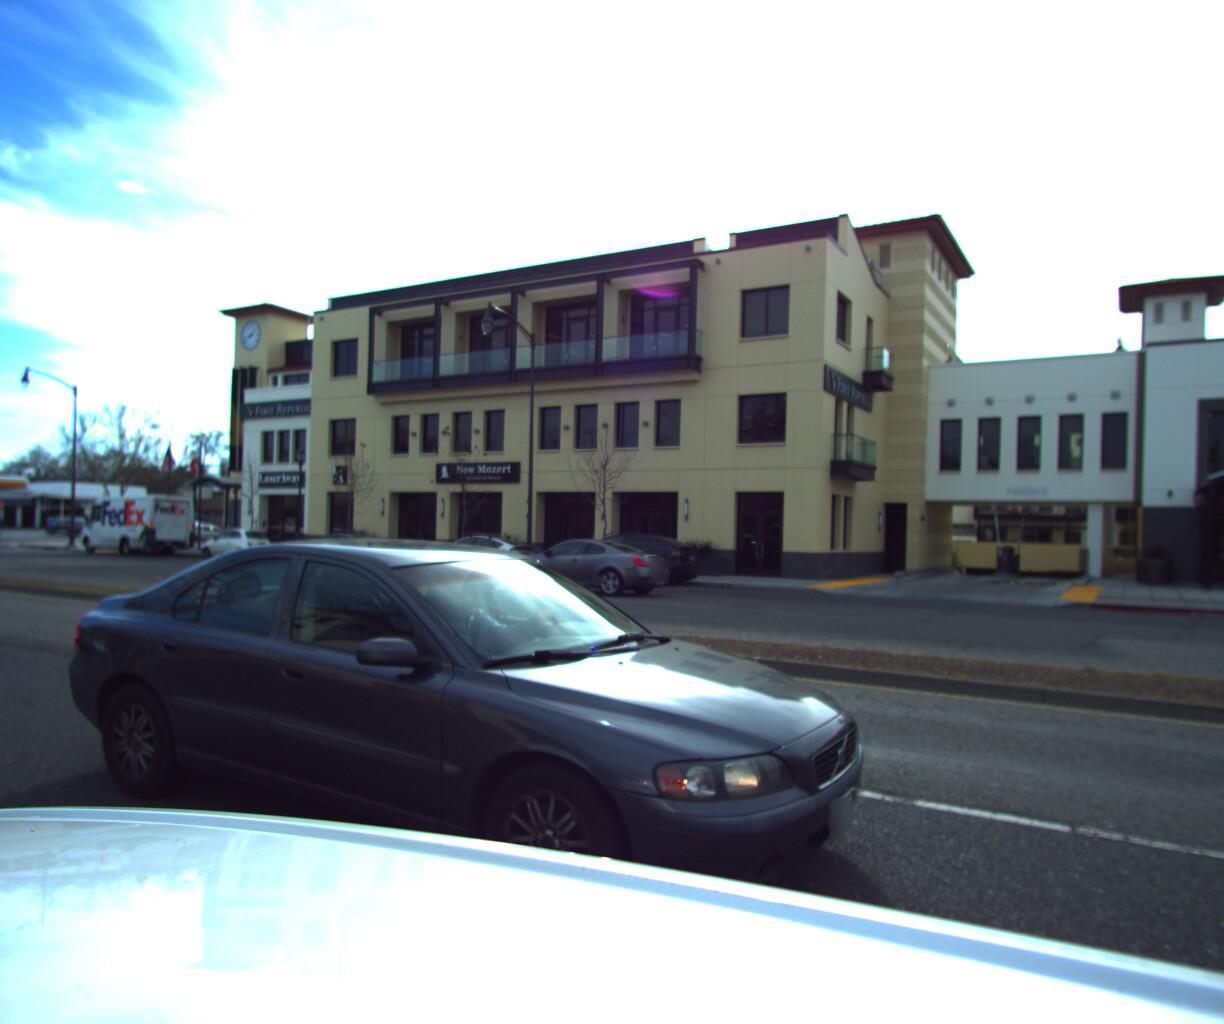bicycle: (126, 519, 168, 555)
car: (23, 524, 889, 1015), (485, 533, 679, 598), (544, 525, 705, 585), (412, 525, 556, 576), (282, 524, 399, 567), (191, 520, 279, 559), (170, 517, 238, 539)
truck: (71, 487, 194, 554)
